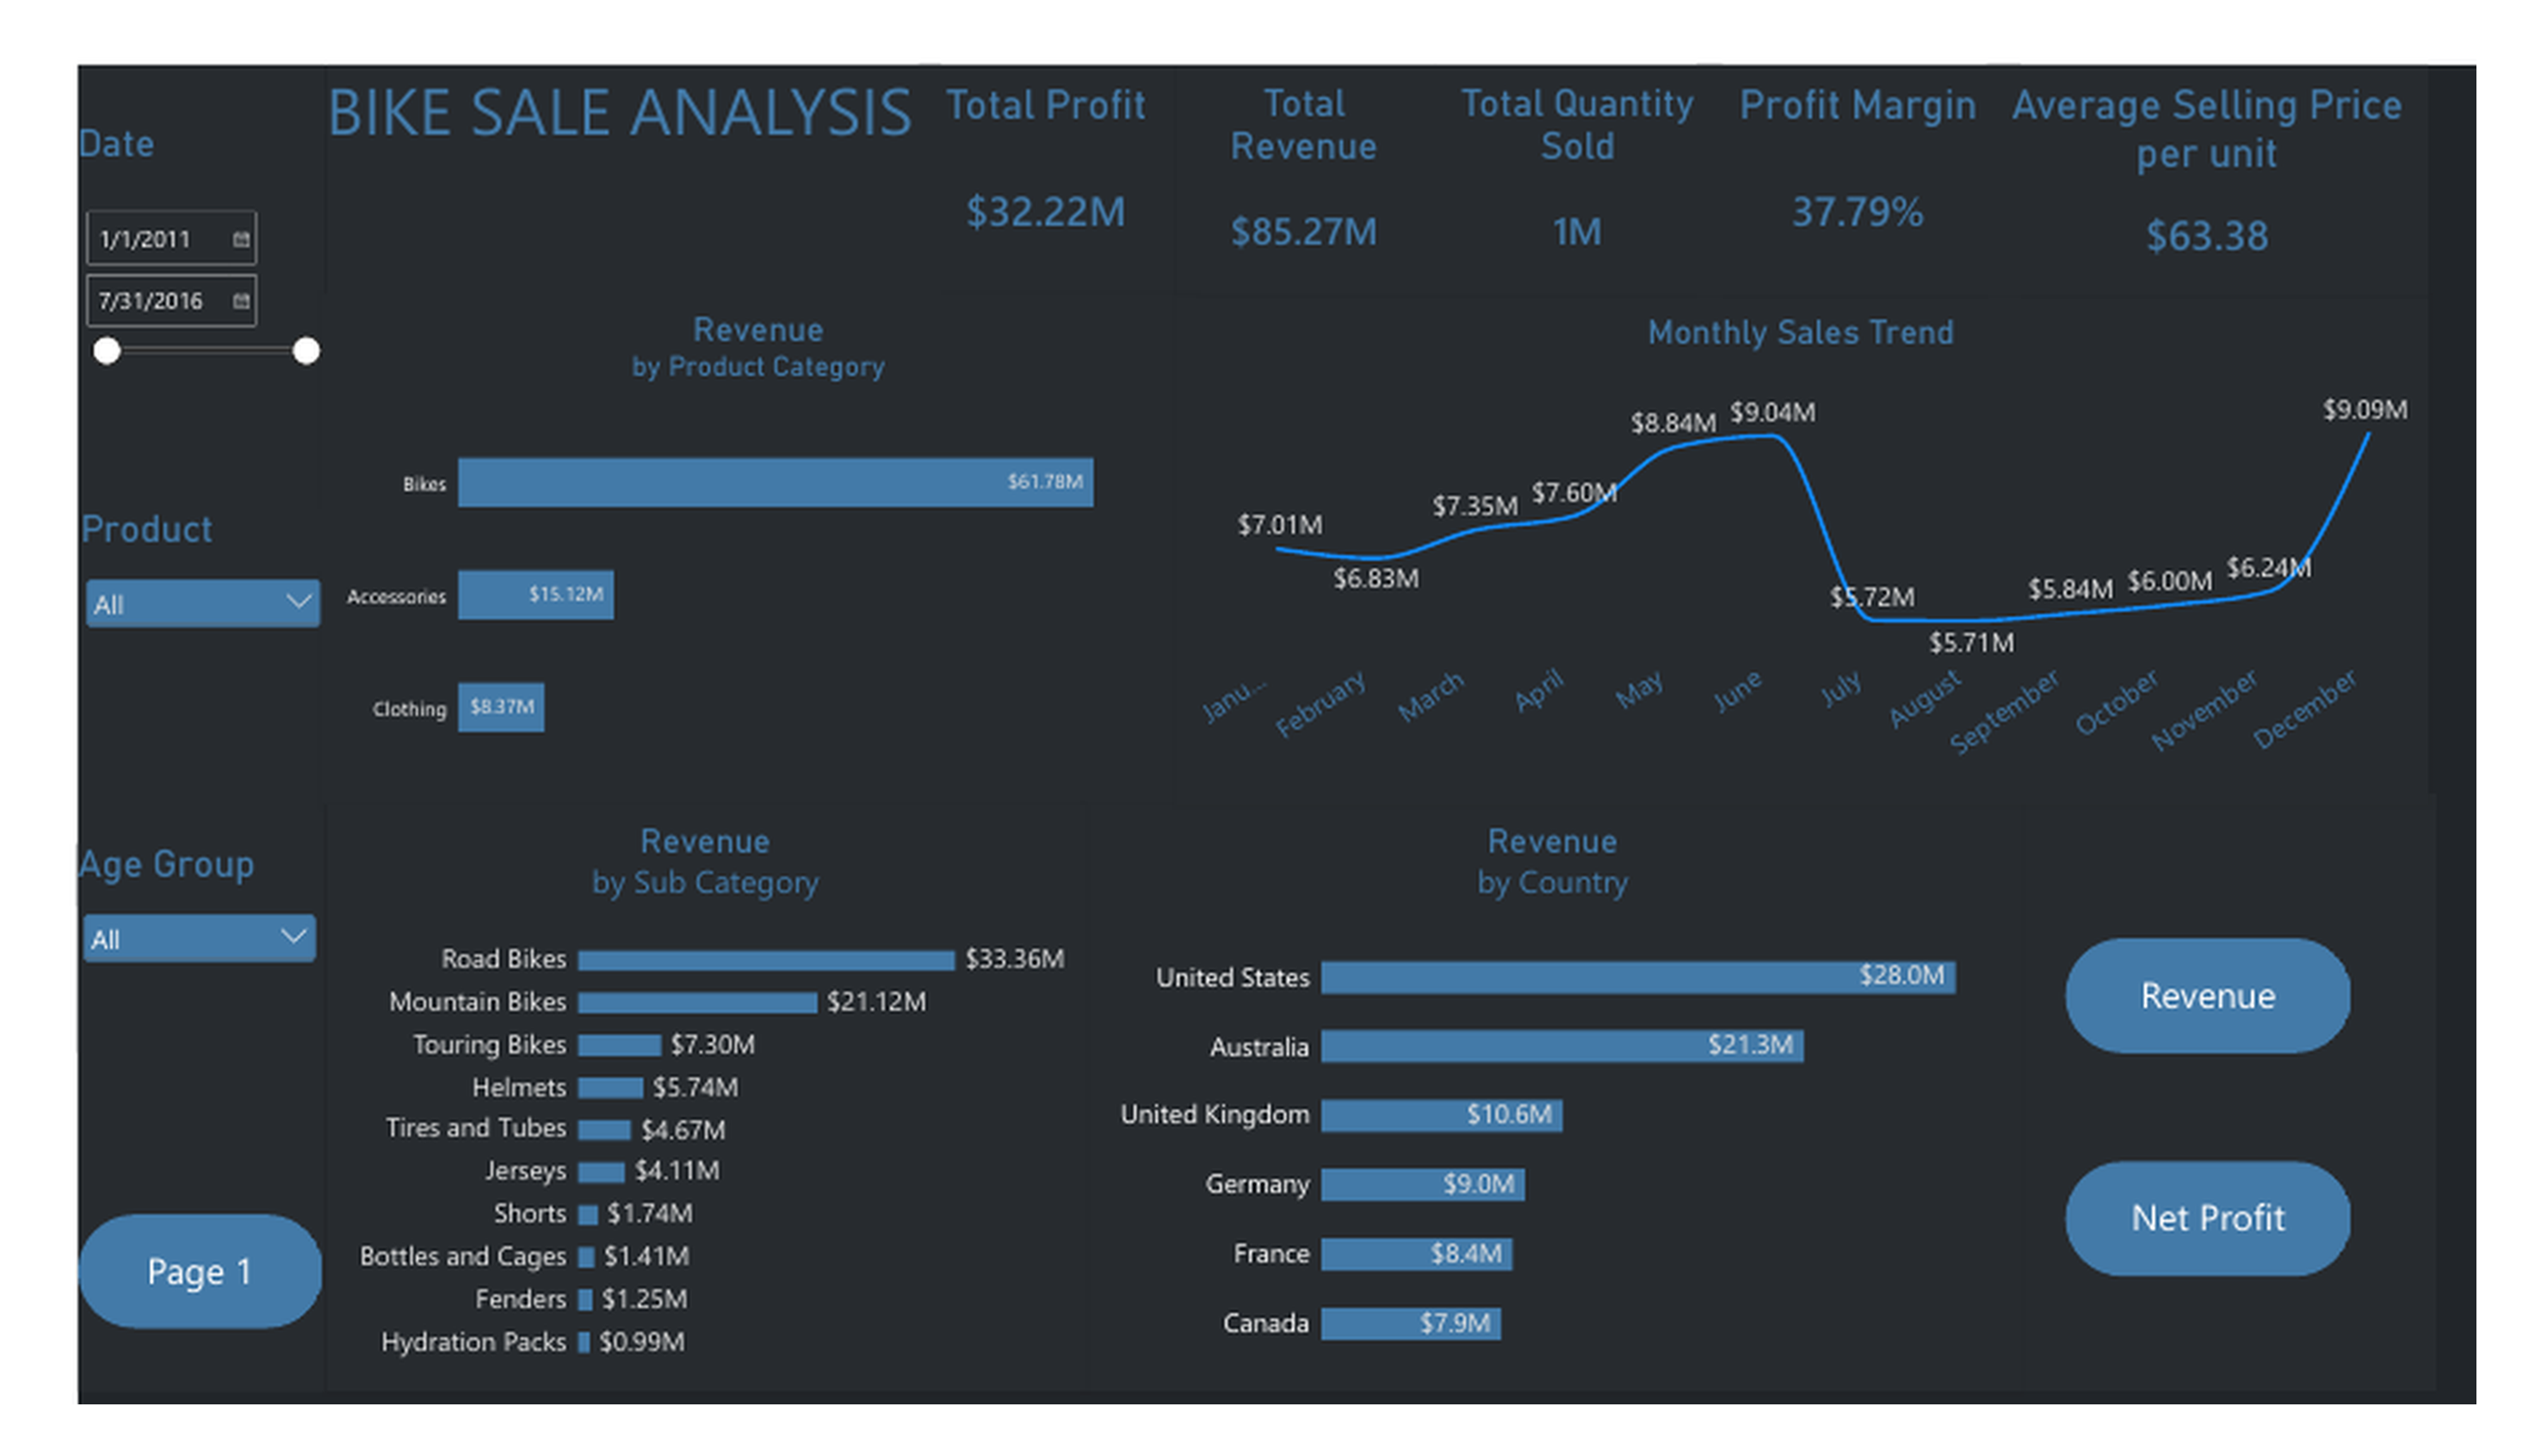

The dashboard page shown, as its layout file describes it:
{"tool":"powerbi","page":{"name":"BIKE SALE ANALYSIS","canvas":[1920,1080],"ordinal":0},"visuals":[{"type":"shape","box":[0,0,201.3,1080],"z":0},{"type":"shape","box":[1580.8,592.8,338.4,486.1],"z":1000},{"type":"card","title":"Total Revenue","fields":{"Values":["Sum(Bike Sale.Revenue)"]},"box":[892.6,0,211.2,188.5],"z":2000},{"type":"card","title":"Total Profit","fields":{"Values":["Sum(Bike Sale.Profit)"]},"box":[683.7,0,209,188.5],"z":3000},{"type":"card","title":"Total Quantity Sold","fields":{"Values":["Sum(Bike Sale.Order_Quantity)"]},"box":[1103.9,0,233.9,188.5],"z":4000},{"type":"clusteredBarChart","fields":{"Category":["Bike Sale.Product_Category"],"Y":["Table.Selected Metric"]},"box":[197.6,186.2,713.2,415.6],"z":5000},{"type":"actionButton","box":[1617.2,711.7,233.2,93.3],"z":6000},{"type":"actionButton","box":[1617.2,891.7,233.2,93.3],"z":7000},{"type":"clusteredBarChart","fields":{"Category":["Bike Sale.Country"],"Y":["Table.Selected Metric"]},"box":[819.9,601.9,760.9,477],"z":9000},{"type":"lineChart","title":"Monthly Sales Trend","fields":{"Category":["Bike Sale.Date.Variation.Date Hierarchy.Month"],"Y":["Table.Selected Metric"]},"box":[892.6,188.5,1019.8,413.4],"z":10000},{"type":"barChart","fields":{"Category":["Bike Sale.Sub_Category"],"Y":["Table.Selected Metric"]},"box":[202.1,601.9,617.8,477],"z":11000},{"type":"textbox","box":[202.1,0,499.7,188.5],"z":12000},{"type":"actionButton","box":[0,935.4,200,92.3],"z":13000},{"type":"slicer","title":"Date","fields":{"Values":["Bike Sale.Date"]},"box":[0,45.4,202.1,209],"z":14000},{"type":"slicer","title":"Product","fields":{"Values":["Bike Sale.Product"]},"box":[2.3,361.1,200,138.5],"z":15000},{"type":"card","title":"Profit Margin","fields":{"Values":["Bike Sale.Profit Margin %"]},"box":[1317.4,0,263.5,188.5],"z":16000},{"type":"card","title":"Average Selling Price per unit","fields":{"Values":["Bike Sale.Average Selling Price per Unit"]},"box":[1553.6,0,358.9,188.5],"z":17000},{"type":"slicer","title":"Age Group","fields":{"Values":["Bike Sale.Age_Group"]},"box":[0,633.7,197.6,170.3],"z":18000}]}

Visuals, with their boxes in screenshot pixels (x1, y1, x2, y2), scaled from the page's 1920x1080 canvas onto the 2541x1456 screenshot:
shape: <box>0,0,266,1455</box>
shape: <box>2092,799,2540,1454</box>
"Total Revenue" card: <box>1181,0,1461,254</box>
"Total Profit" card: <box>905,0,1182,254</box>
"Total Quantity Sold" card: <box>1461,0,1771,254</box>
clusteredBarChart - Bike Sale.Product_Category x Table.Selected Metric: <box>262,251,1205,811</box>
actionButton: <box>2140,959,2449,1085</box>
actionButton: <box>2140,1202,2449,1328</box>
clusteredBarChart - Bike Sale.Country x Table.Selected Metric: <box>1085,811,2092,1454</box>
"Monthly Sales Trend" lineChart: <box>1181,254,2531,811</box>
barChart - Bike Sale.Sub_Category x Table.Selected Metric: <box>268,811,1085,1454</box>
textbox: <box>268,0,929,254</box>
actionButton: <box>0,1261,265,1385</box>
"Date" slicer: <box>0,61,268,343</box>
"Product" slicer: <box>3,487,268,674</box>
"Profit Margin" card: <box>1744,0,2093,254</box>
"Average Selling Price per unit" card: <box>2056,0,2531,254</box>
"Age Group" slicer: <box>0,854,262,1084</box>
